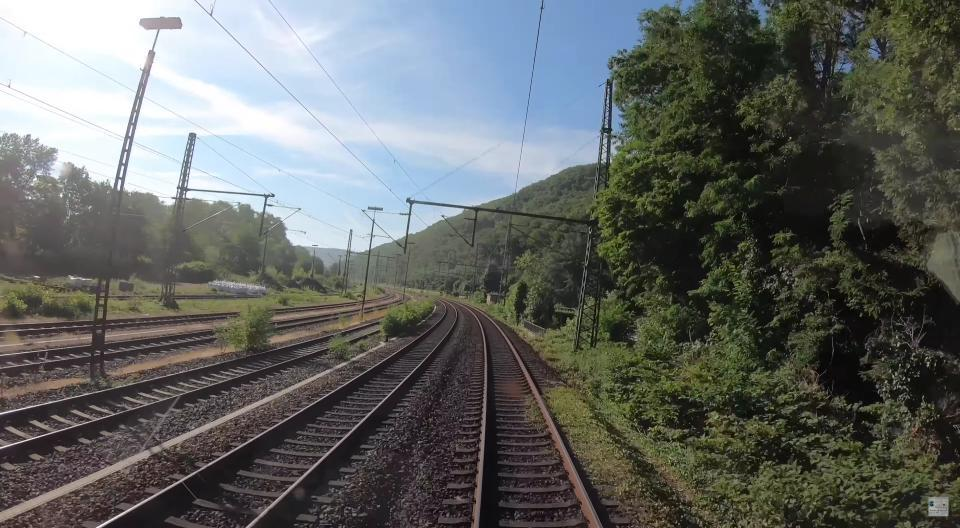Plant: (544, 387, 633, 496), (215, 306, 276, 353), (382, 300, 434, 337), (328, 336, 354, 360), (525, 399, 543, 423)
